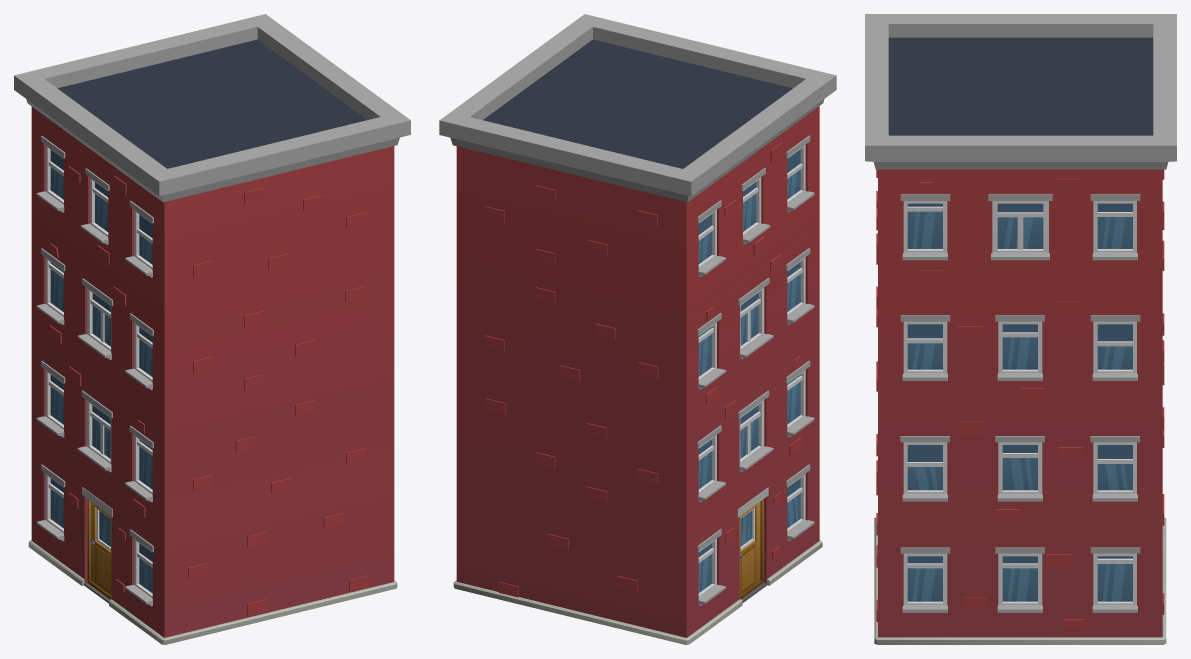
File: Building_2_5_J.fbx
3 renders of one model, left to right at view 1: azimuth 30°, elevation 25°; view 2: azimuth 150°, elevation 25°; view 3: azimuth 270°, elevation 25°, orthographic. The views are drawn at different scales.
Parts seen in each view (by area): view 1: Building_2_5_J; view 2: Building_2_5_J; view 3: Building_2_5_J.
Part boxes in pixels (x1,y1,x2,y2): Building_2_5_J: (14,14,410,644); Building_2_5_J: (439,14,836,644); Building_2_5_J: (865,14,1176,644).
Size of the model in its own units: 620 by 1105 by 620.
